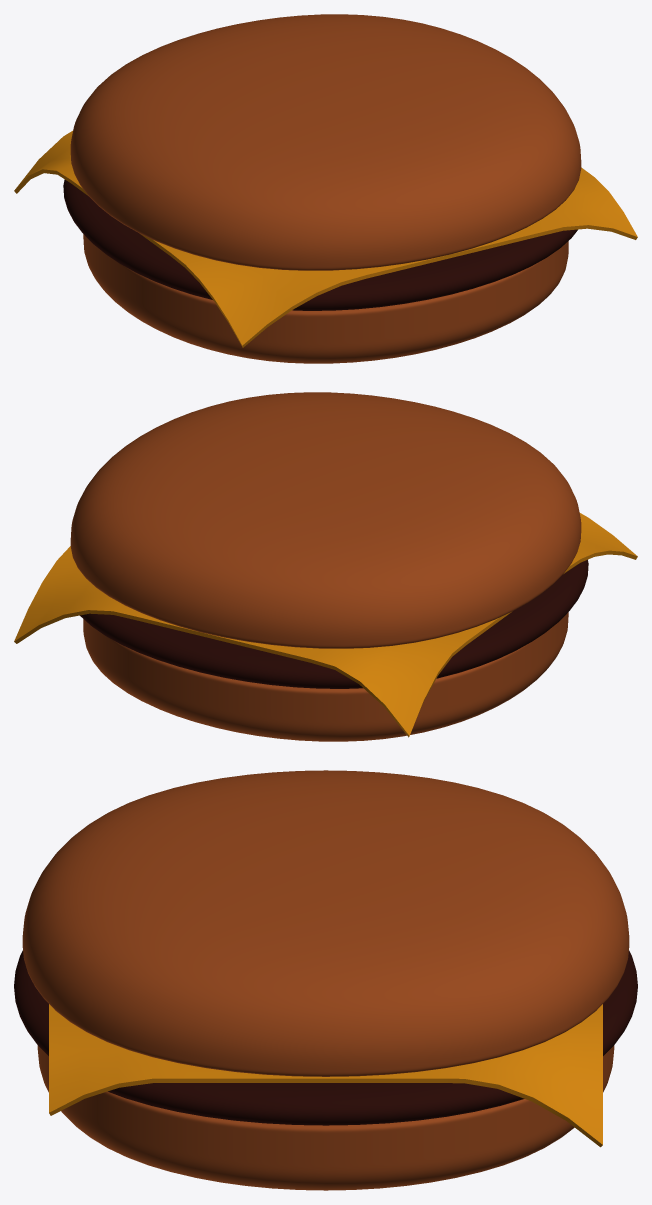
The model's file is hamburger.obj.
3 renders of one model, top to bottom at view 1: azimuth 30°, elevation 25°; view 2: azimuth 150°, elevation 25°; view 3: azimuth 270°, elevation 25°, orthographic. The views are drawn at different scales.
Parts seen in each view (by area): view 1: Cube.002, Cube, Plane, Cube.001; view 2: Cube.002, Cube, Plane, Cube.001; view 3: Cube.002, Cube, Plane, Cube.001.
Part boxes in pixels (x1,y1,x2,y2): Cube.002: (70,14,581,270); Cube: (83,234,568,363); Plane: (14,131,637,347); Cube.001: (63,179,577,310); Cube.002: (70,392,581,648); Cube: (83,612,568,741); Plane: (14,513,637,737); Cube.001: (80,559,588,688); Cube.002: (22,770,629,1076); Cube: (37,1045,614,1190); Plane: (49,1004,602,1147); Cube.001: (14,950,637,1125).
Size of the model in its own units: 9.82 by 4.32 by 9.82.
